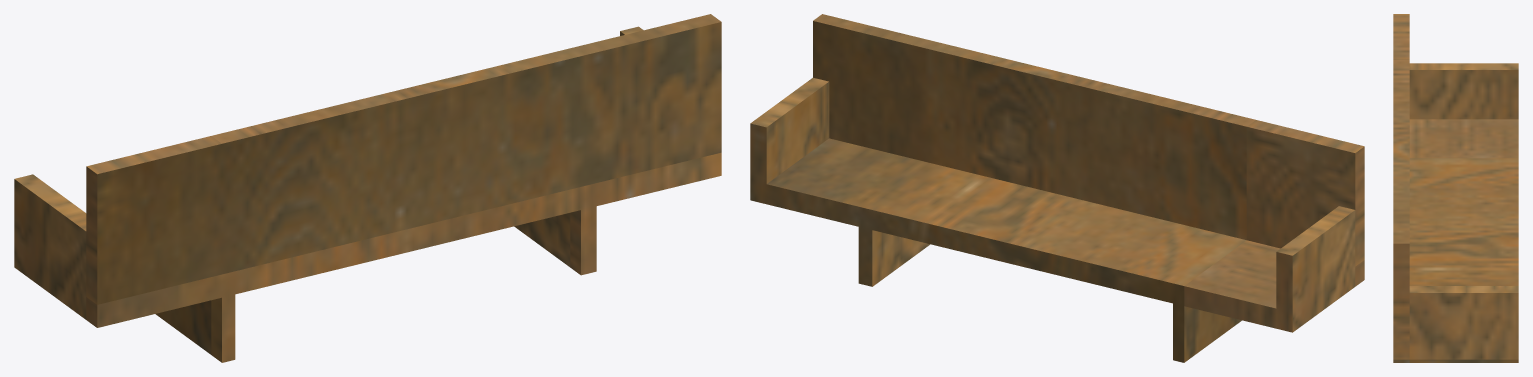
File: ChurchPew.fbx
3 views of the same model, side by side, from view 1: azimuth 30°, elevation 25°; view 2: azimuth 150°, elevation 25°; view 3: azimuth 270°, elevation 25° (orthographic). The views are drawn at different scales.
Parts seen in each view (by area): view 1: Cube; view 2: Cube; view 3: Cube.
Part boxes in pixels (box(x1,y1,x2,y2)): Cube: box(14, 14, 721, 362); Cube: box(750, 14, 1364, 362); Cube: box(1393, 14, 1518, 362).
Size of the model in its own units: 1000 by 335 by 230.
